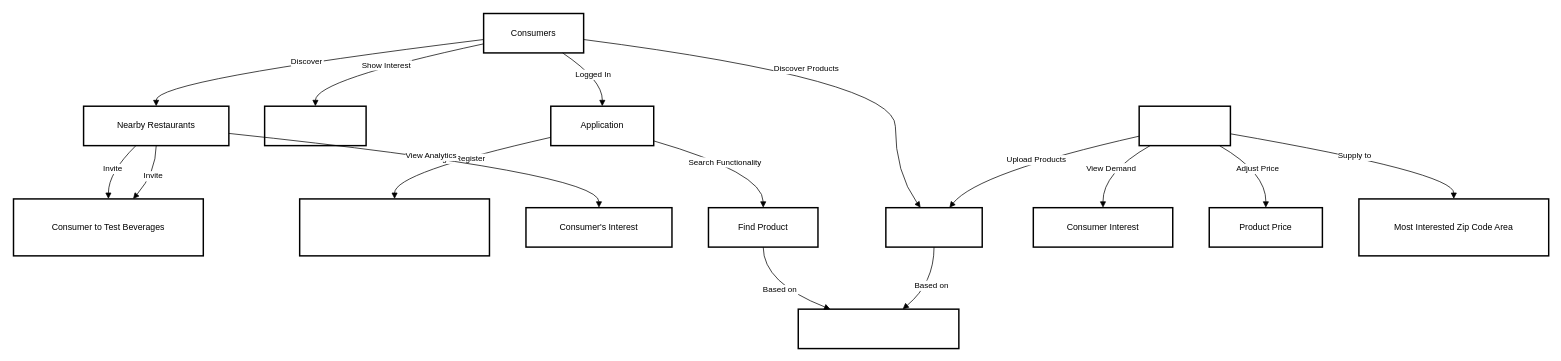
Some shapes in this 1561 by 361 pixel diagram are drawn without their labels. The centre of each missing label's shape, as x and y in pixels:
Beverages: (934,227)
Hand Raise: (315,125)
Location and Zip Code: (878,328)
Phone Number or Social Media: (394,227)
Suppliers: (1184,125)
